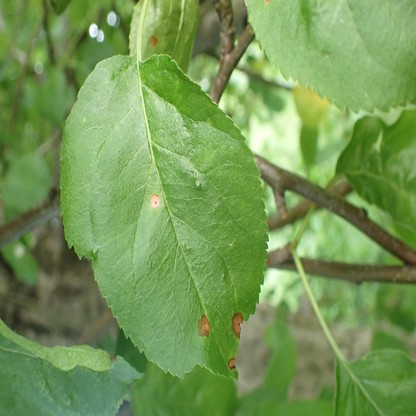frogeye_leaf_spot: (231, 313, 242, 339), (199, 315, 209, 337), (150, 194, 160, 207), (228, 357, 237, 369), (151, 36, 157, 46)
